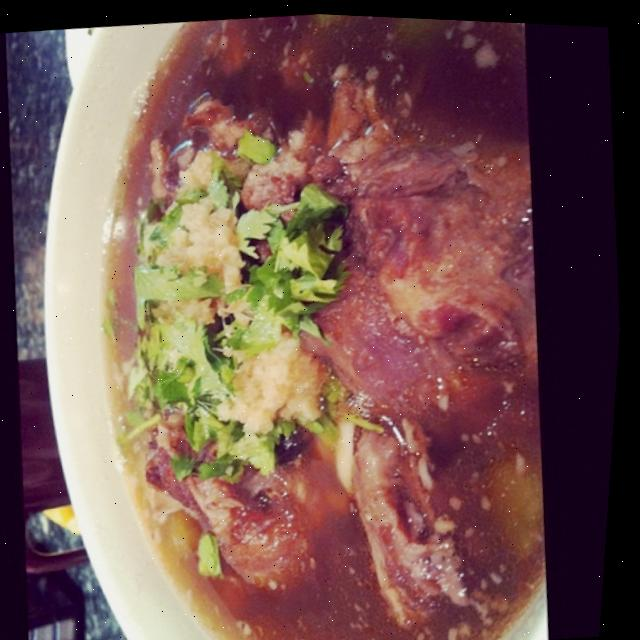汤锅炖物: (3, 1, 591, 640)
